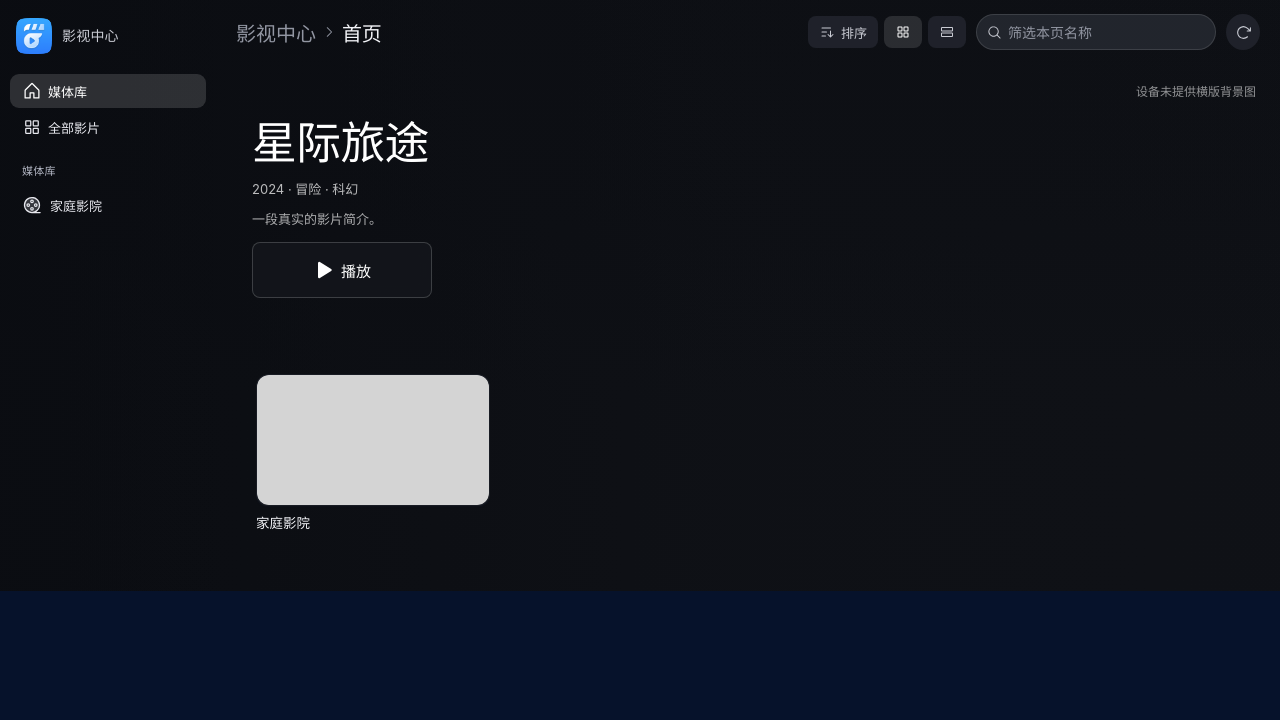
Test case: keeps a neutral hero when no actual backdrop is available and hides the home hero in a library
The image size is (1280, 720).
Expected: the element named "首页推荐影片" shows "设备未提供横版背景图", top-left (1136, 84), bottom-right (1256, 99)
Click the button "家庭影院" below "一段真实的影片简介。" at (373, 461), box top-left (256, 374), bottom-right (490, 549)
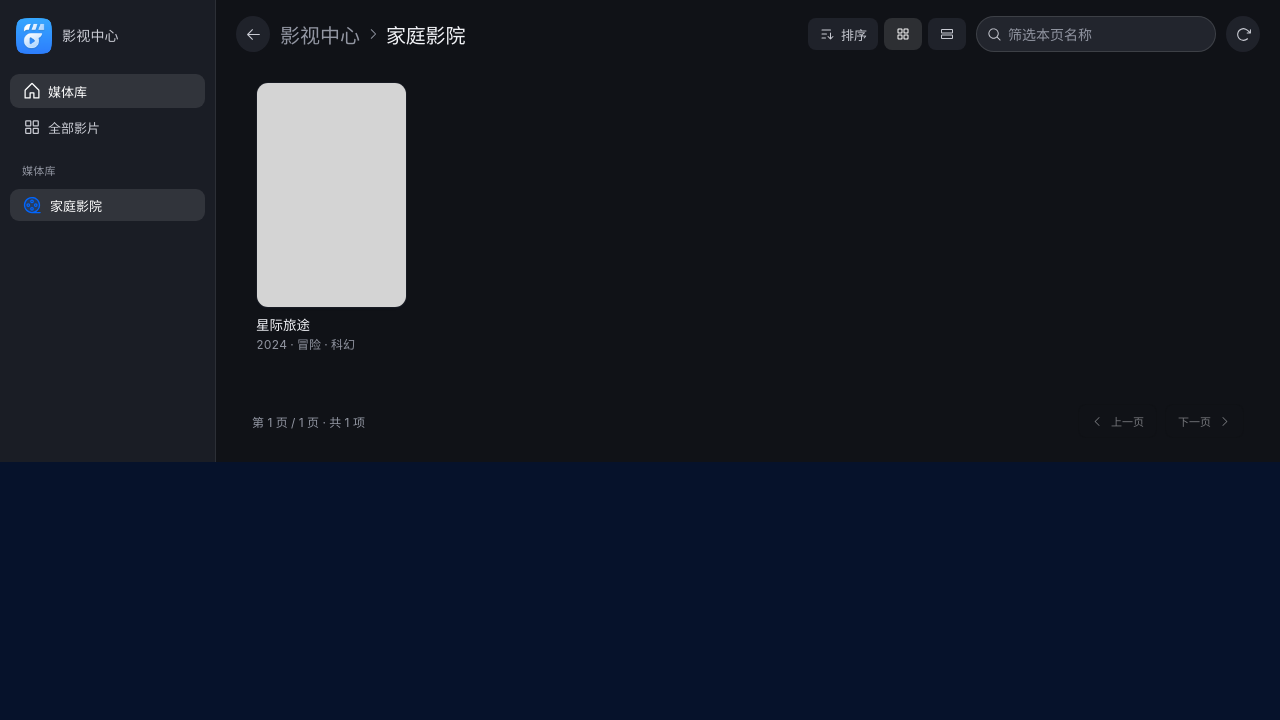
Expected: the element "首页推荐影片" is gone
